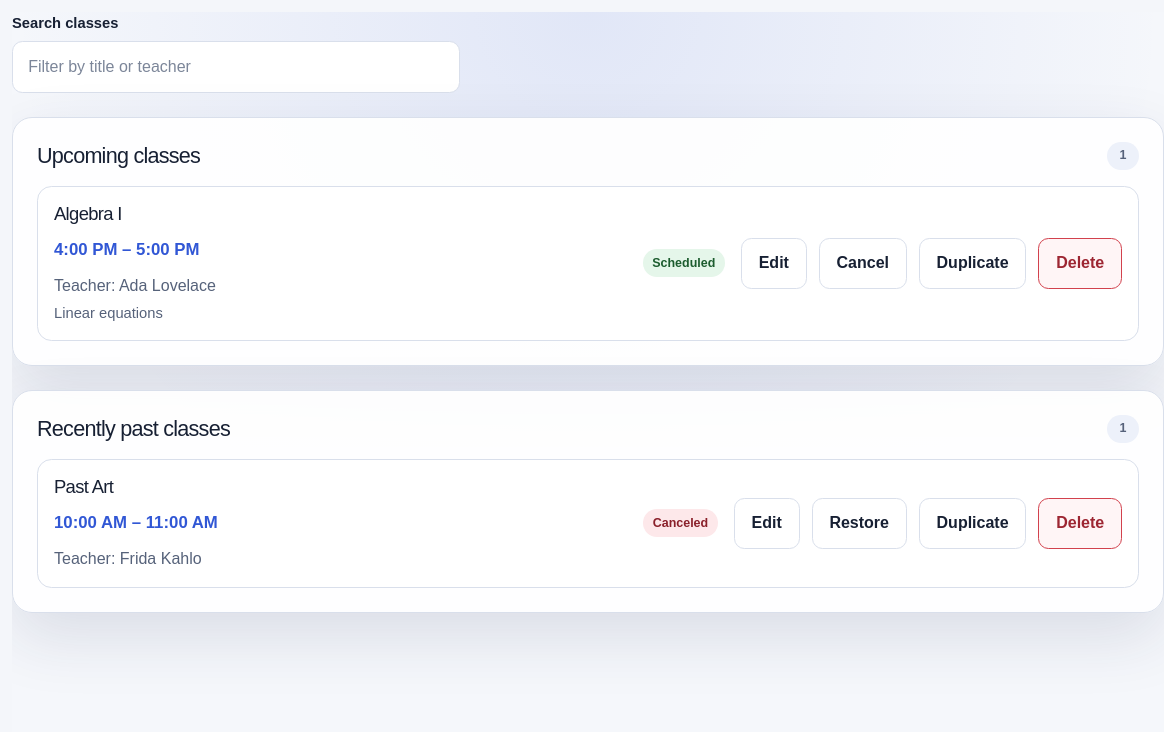
Test: AdminClassList › announces cancel or restore failures returned by the server action
The width and height of the screenshot is (1164, 732).
Click the button with aria-label "Cancel Algebra I". click: (863,263)
box: [819, 238, 907, 289]
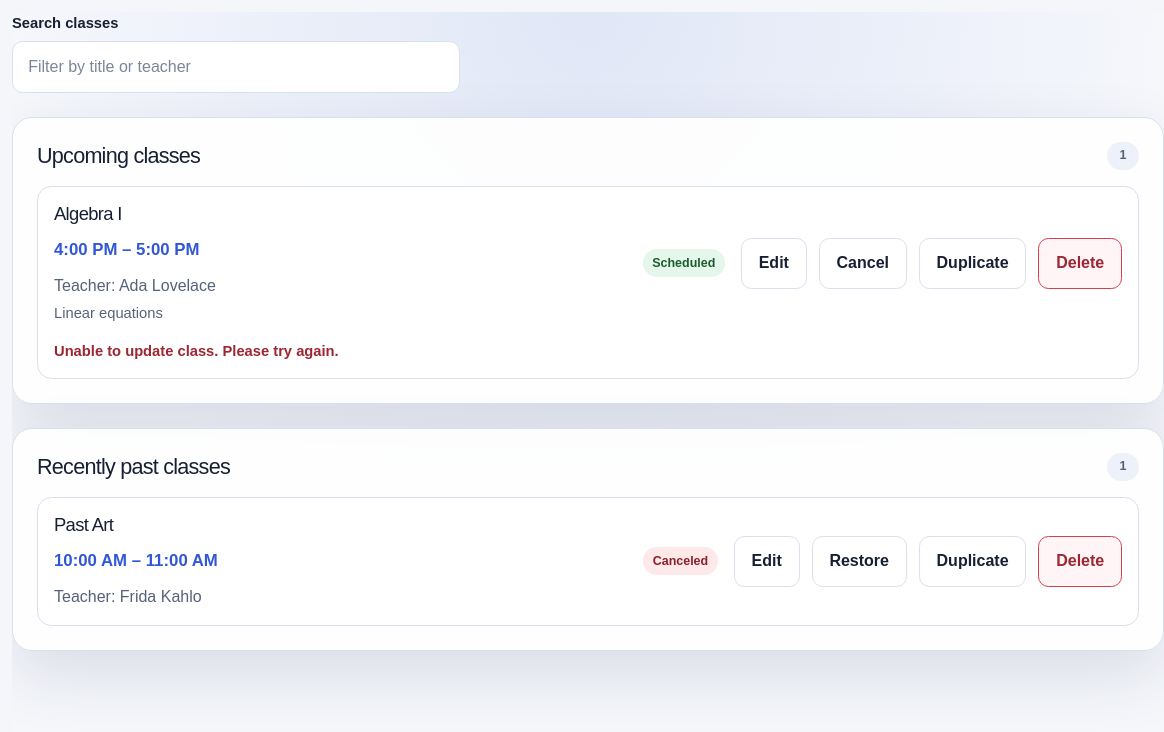
Now the message reads "Unable to update class. Please try again.", box [54, 343, 339, 359]
